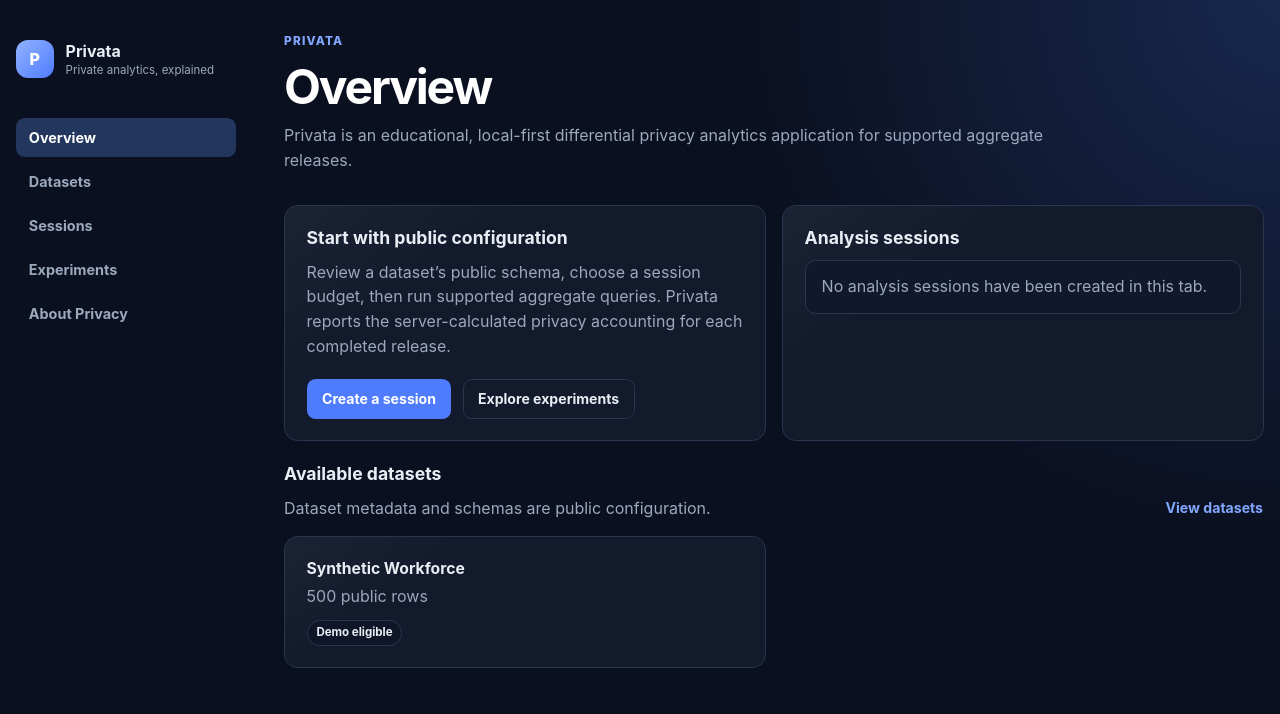
Privata frontend › creates a demo session before opening the query console
Step 1. Click the link "Sessions" → click(61, 226), box [29,217,93,234]
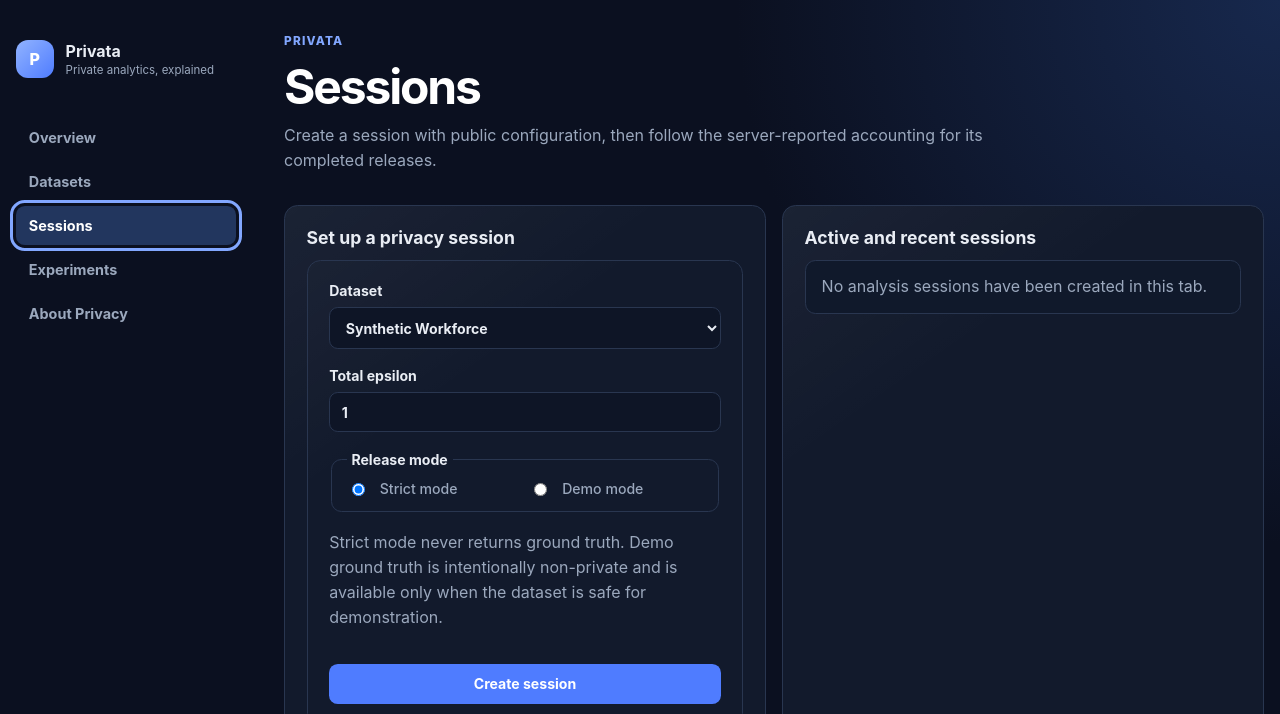
Expected: the heading "Set up a privacy session" is shown, [307,227,515,248]
Step 2. Replace the text in the number field labelled "Total epsilon" with "2" → (525, 412), box [329,392,721,432]
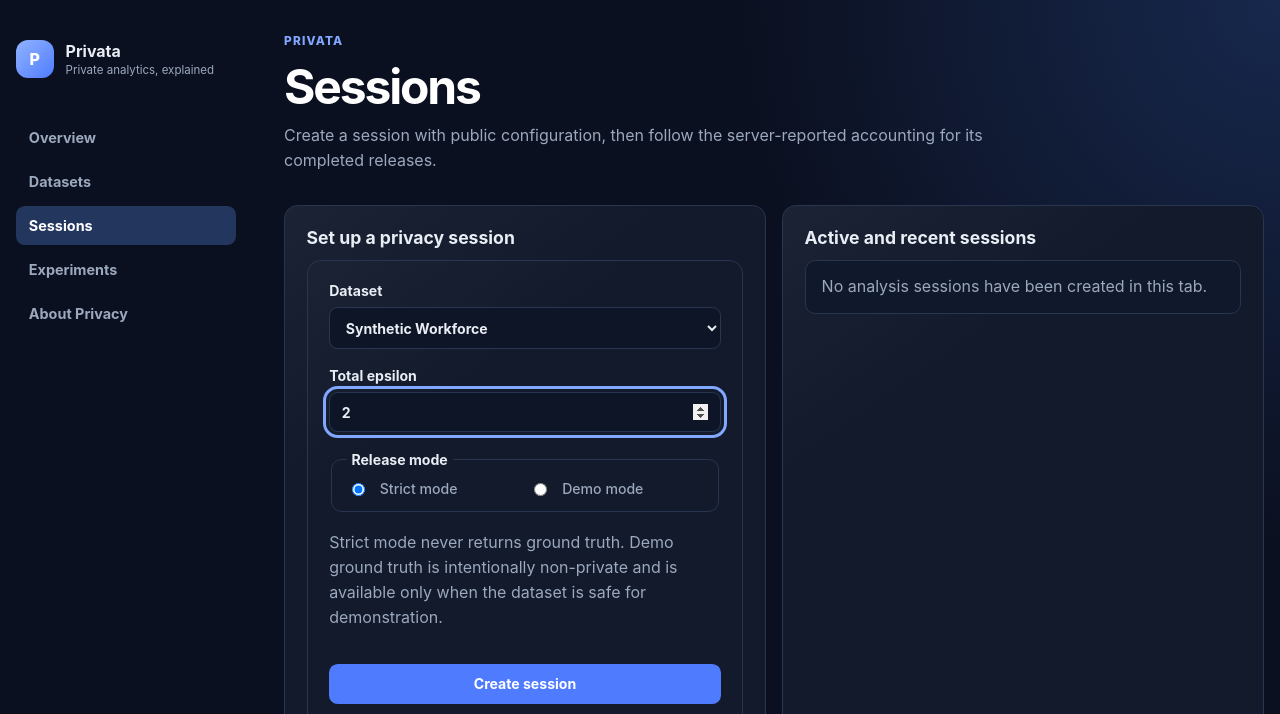
Step 3. Click the radio button labelled "Demo mode" → click(540, 490), box [534,483,547,496]
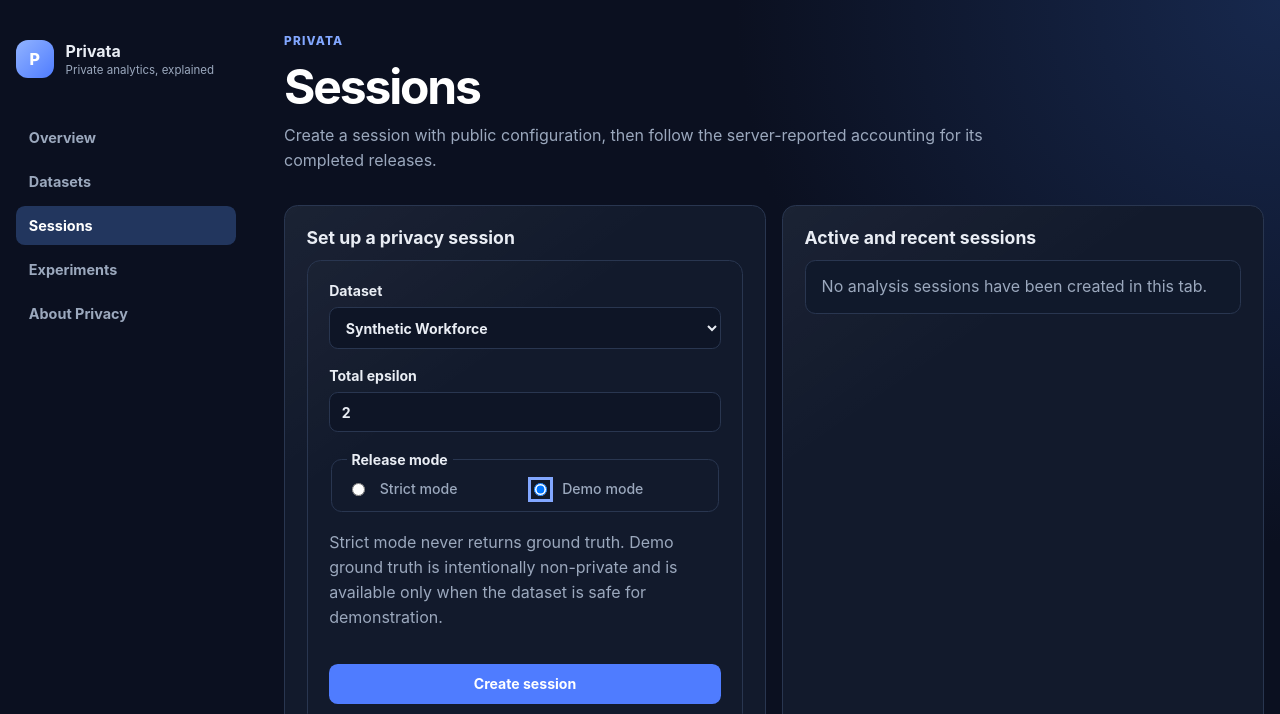
Step 4. Click the button "Create session" → click(525, 684), box [329,664,721,704]
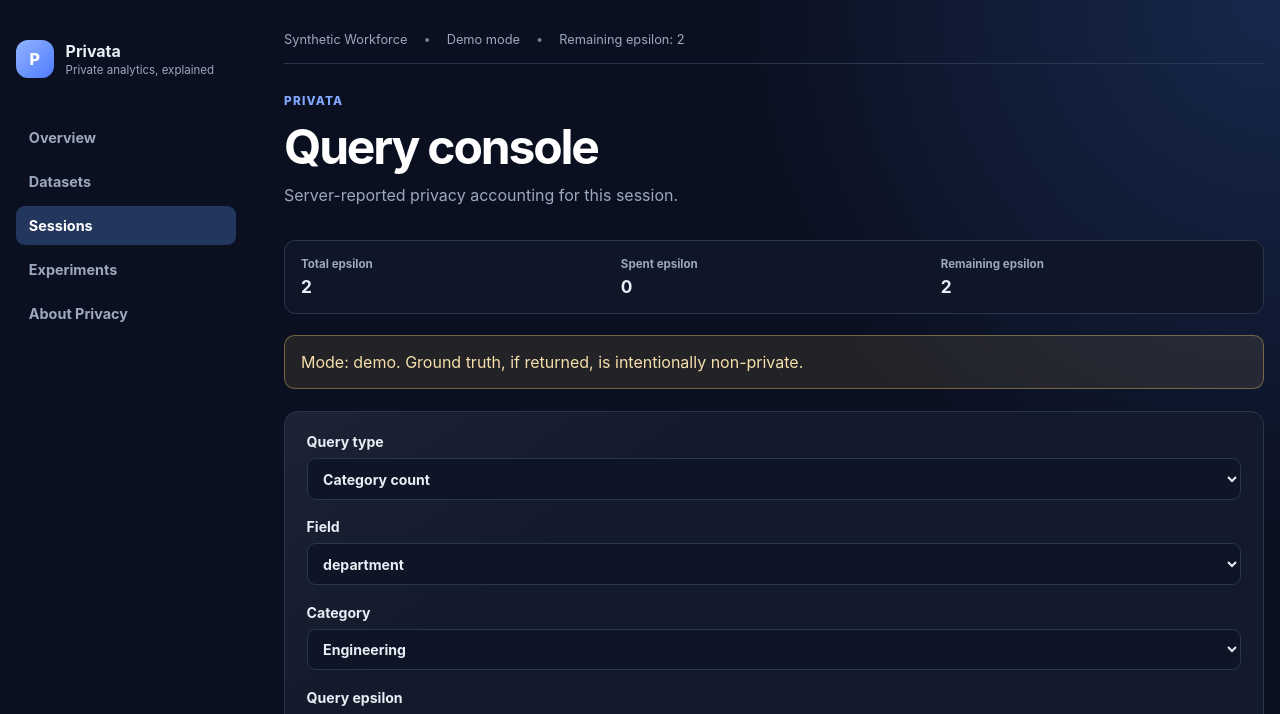
Expected: the heading "Query console" is shown, [284,117,598,176]
Expected: the text "Mode: demo. Ground truth, if returned, is intentionally non-private." is shown, [284,335,1264,389]
